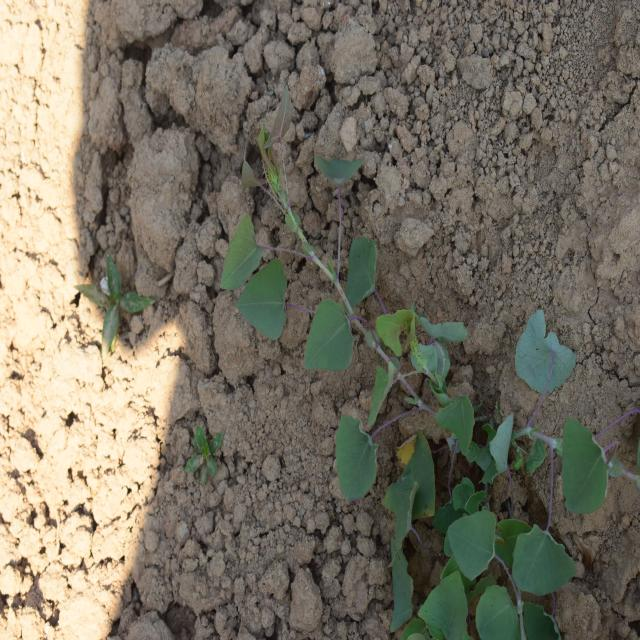Asiatic_Smartweed: (203, 100, 373, 325), (300, 261, 432, 493), (416, 484, 578, 638), (548, 405, 614, 527)
